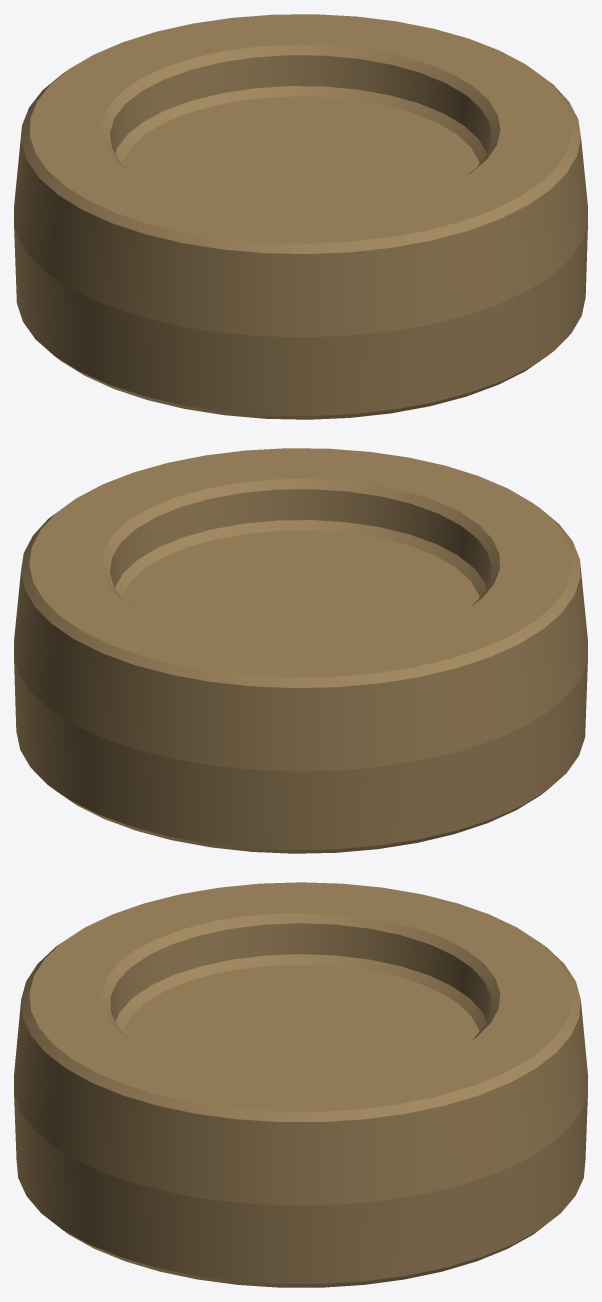
The model's file is disc_black.glb.
3 renders of one model, top to bottom at view 1: azimuth 30°, elevation 25°; view 2: azimuth 150°, elevation 25°; view 3: azimuth 270°, elevation 25°, orthographic.
Parts seen in each view (by area): view 1: Node1; view 2: Node1; view 3: Node1.
Part boxes in pixels (box(x1,y1,x2,y2)): Node1: box(14, 14, 587, 419); Node1: box(14, 448, 587, 853); Node1: box(14, 882, 587, 1287).
Size of the model in its own units: 0.75 by 0.25 by 0.7479.
